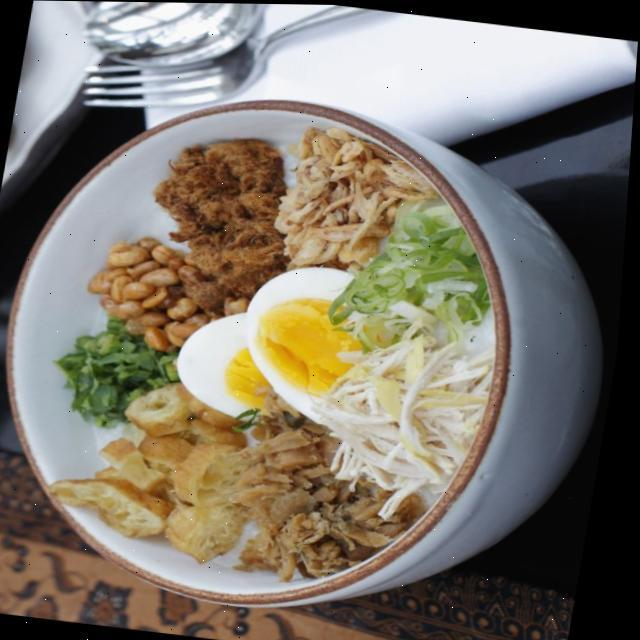bubur ayam: (16, 96, 536, 604)
mangkuk: (0, 69, 635, 640)
telur rebus: (224, 254, 392, 432), (164, 306, 281, 424)
